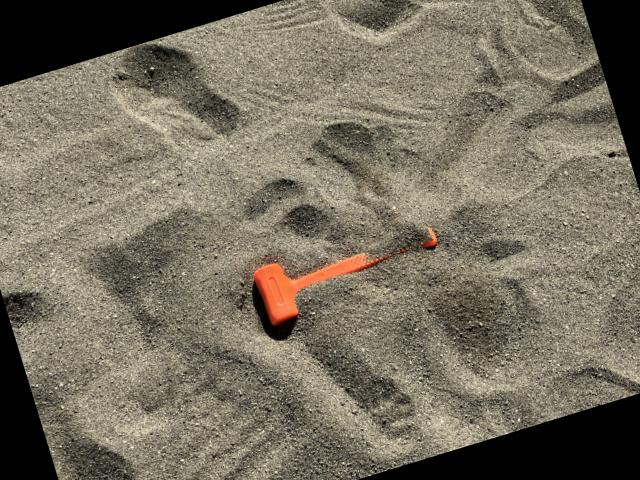hammer: (250, 216, 448, 330)
